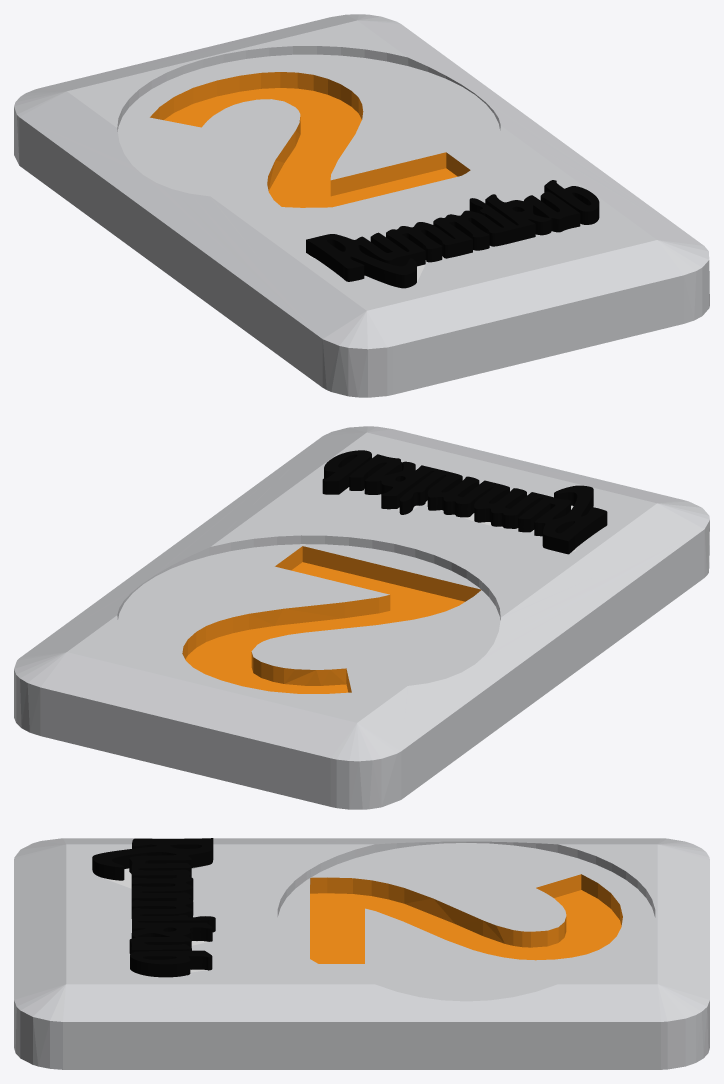
3 views of the same model, one above another, from view 1: azimuth 30°, elevation 25°; view 2: azimuth 150°, elevation 25°; view 3: azimuth 270°, elevation 25° (orthographic).
Parts seen in each view (by area): view 1: Rummikub 2 Fixed; view 2: Rummikub 2 Fixed; view 3: Rummikub 2 Fixed.
Boxes of the visible parts, bbox=[...] form: Rummikub 2 Fixed: bbox=[14, 14, 709, 397]; Rummikub 2 Fixed: bbox=[14, 426, 709, 809]; Rummikub 2 Fixed: bbox=[14, 838, 709, 1069].
Bounding box in the file's own units: 2499 × 487 × 4000.
